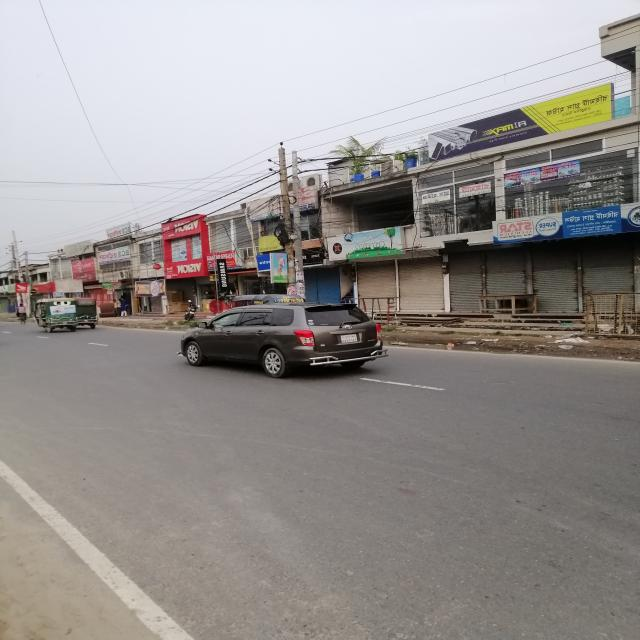Car: (178, 302, 393, 378)
